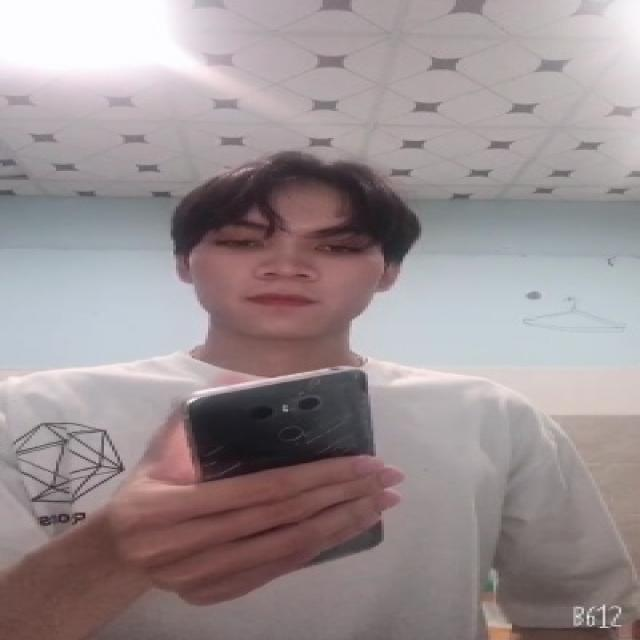Phone: (178, 366, 382, 566)
